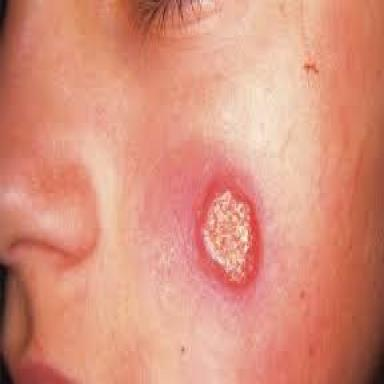Leishmanios: (194, 177, 262, 293)
